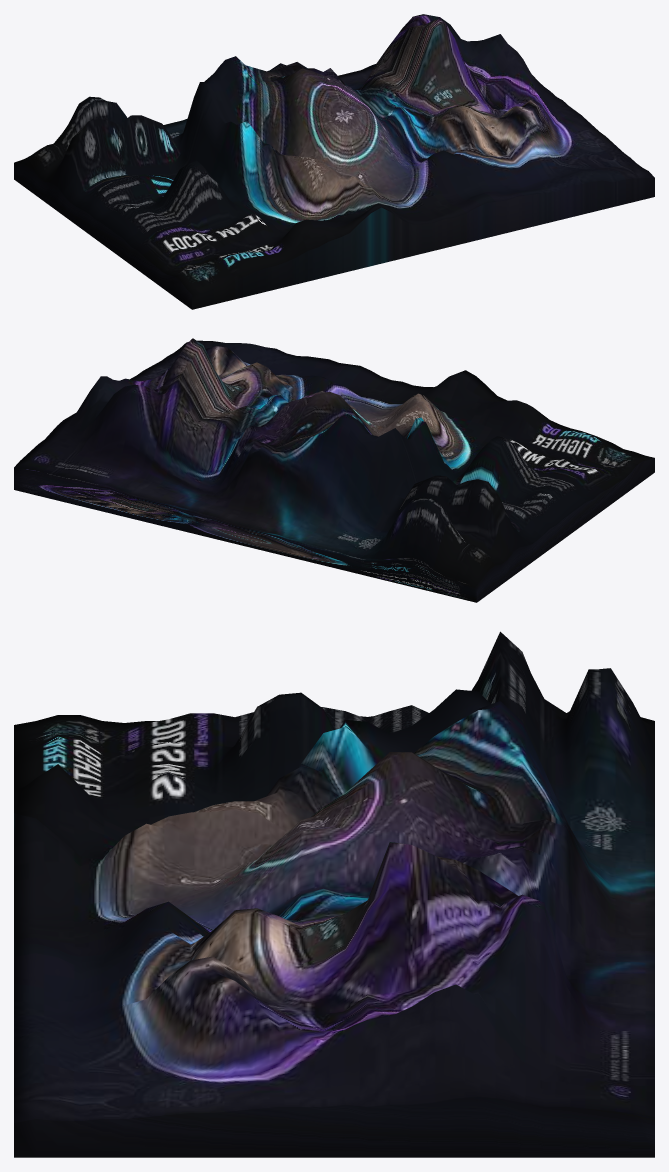
File: CAREER_06_Tool_07_Mitts.glb
The picture shows the model from 3 angles, top to bottom: view 1: azimuth 30°, elevation 25°; view 2: azimuth 150°, elevation 25°; view 3: azimuth 270°, elevation 25°; orthographic projection. The views are drawn at different scales.
Parts seen in each view (by area): view 1: CAREER_06_Tool_07_Mitts; view 2: CAREER_06_Tool_07_Mitts; view 3: CAREER_06_Tool_07_Mitts.
Part boxes in pixels (x1,y1,x2,y2): CAREER_06_Tool_07_Mitts: [14, 14, 654, 309]; CAREER_06_Tool_07_Mitts: [14, 338, 654, 602]; CAREER_06_Tool_07_Mitts: [14, 631, 654, 1157].
Bounding box in the file's own units: 2 × 0.51 × 1.33.
1 material, 1 textured.
